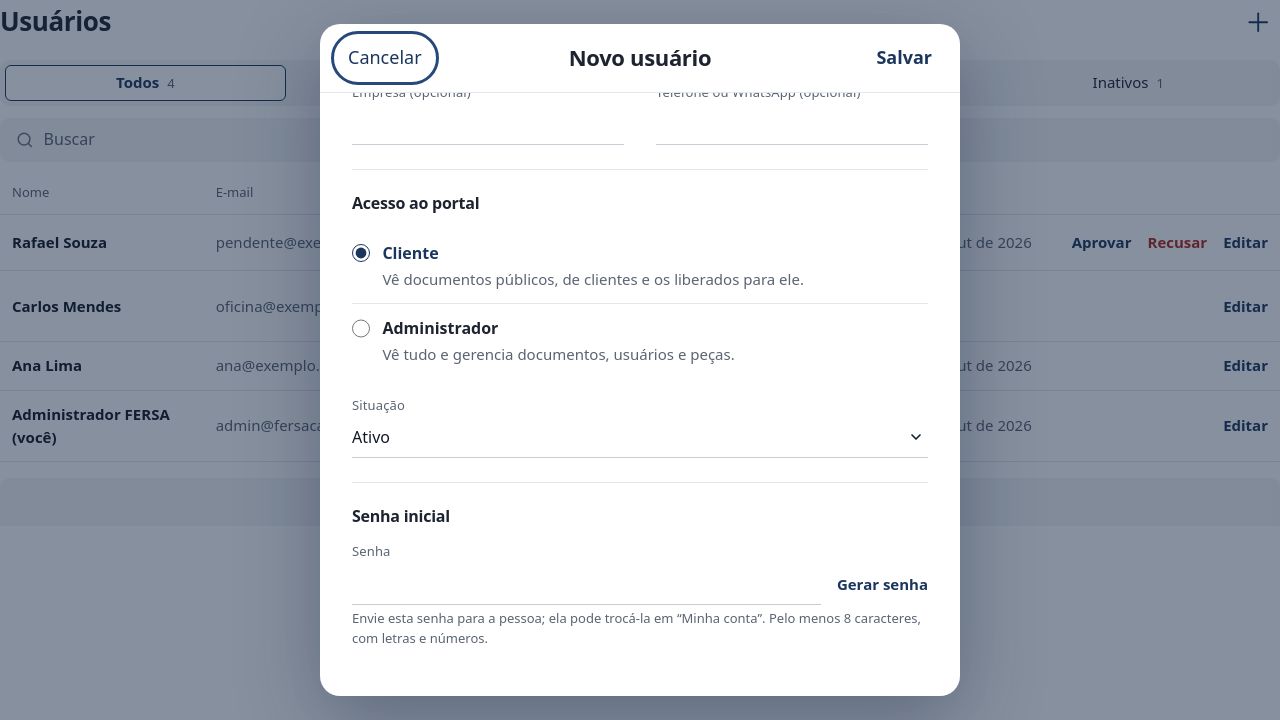
Test: Cadastro de usuário › senha fraca: a mensagem da API aparece embaixo da senha
This screenshot has width=1280, height=720.
(page scrolled)
Expected: the button "Salvar" is shown, top-left (864, 36), bottom-right (944, 80)
Step 1. Type "abcdefgh" into the field labelled "Senha" → (586, 585), box top-left (352, 565), bottom-right (821, 605)
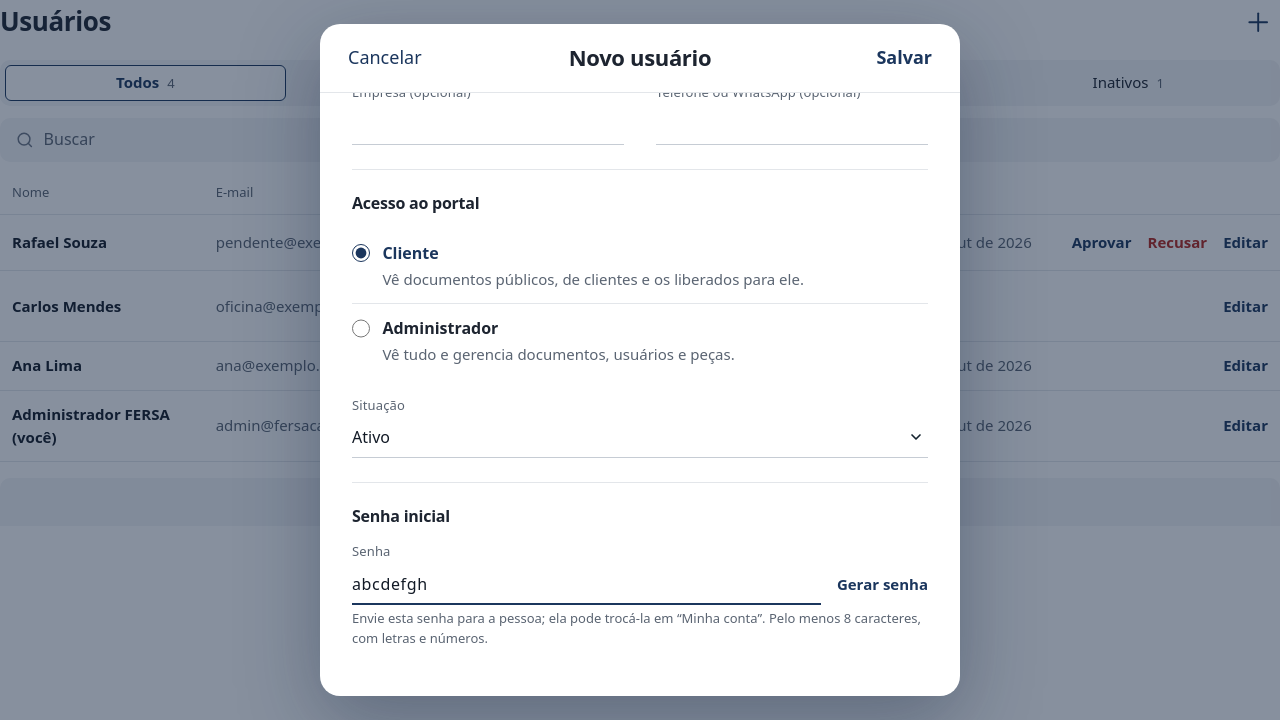
Step 2. Click the button "Salvar" → click(904, 58), box top-left (864, 36), bottom-right (944, 80)
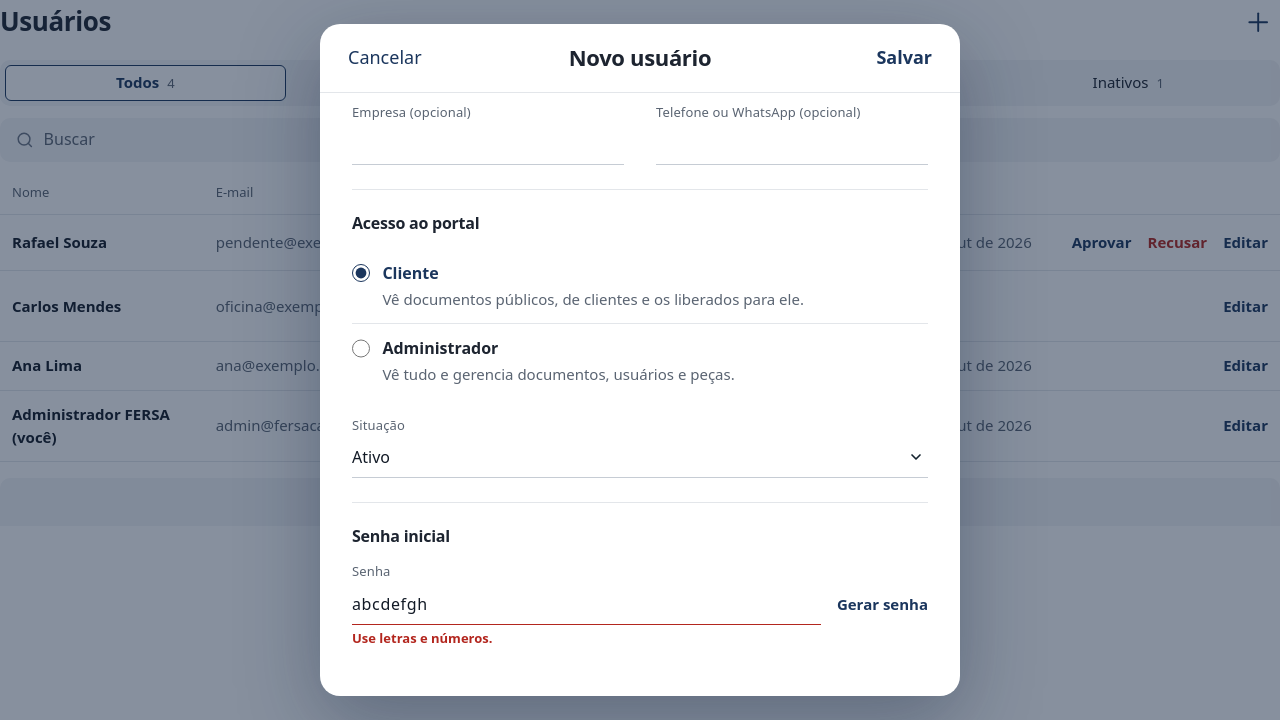
Expected: the text "Use letras e números." is shown, top-left (352, 629), bottom-right (492, 647)
